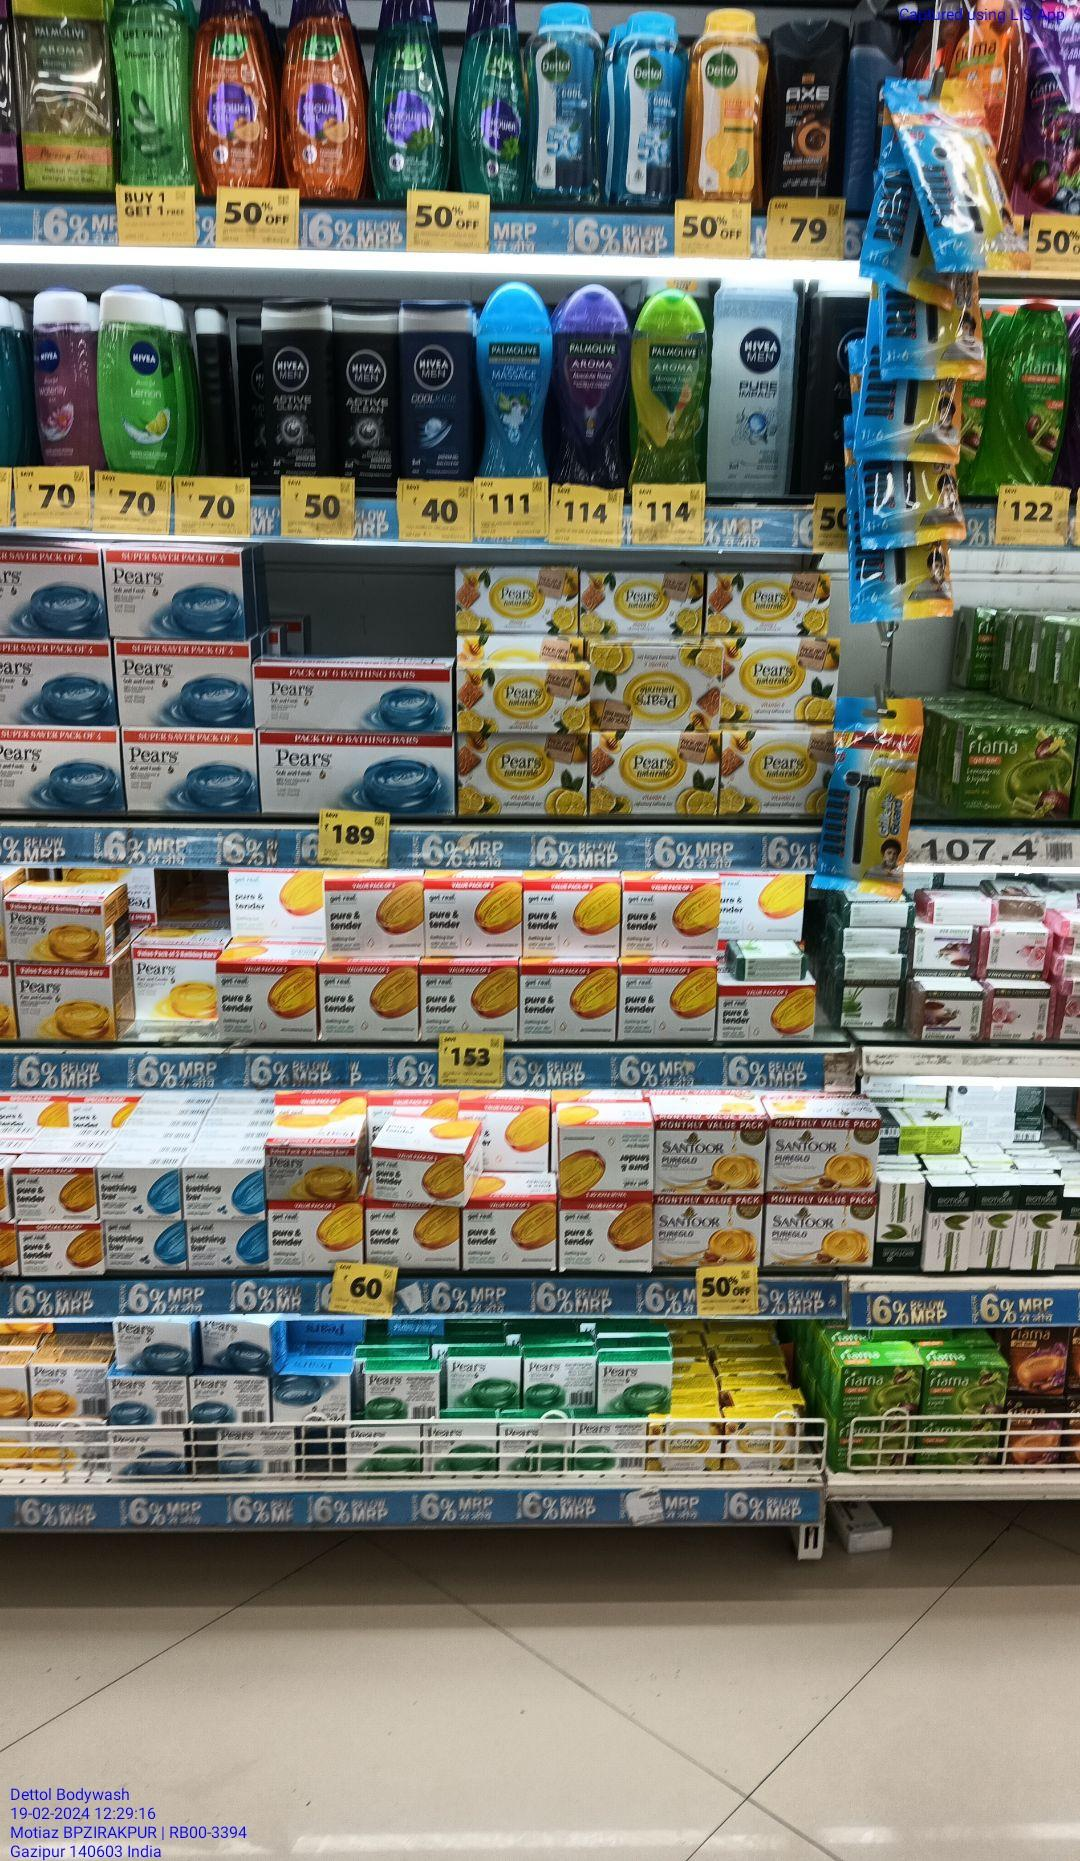Dettol_Bodywash_Cool: (525, 0, 607, 209), (607, 8, 685, 208)
Dettol_Bodywash_Refresh: (683, 4, 770, 200)
Nivea_Shower_Gel_Lemon_and_Oil_250ML: (94, 279, 177, 476)
Palmolive_Aroma_Moments_Feel_The_Massage_Shower_Gel_250ML: (473, 276, 554, 478)
Palmolive_Aroma_Morning_Tonic_Shower_Gel_250ML: (631, 288, 707, 485)
Palmolive_Aroma_Relax_250ML: (555, 278, 630, 487)
